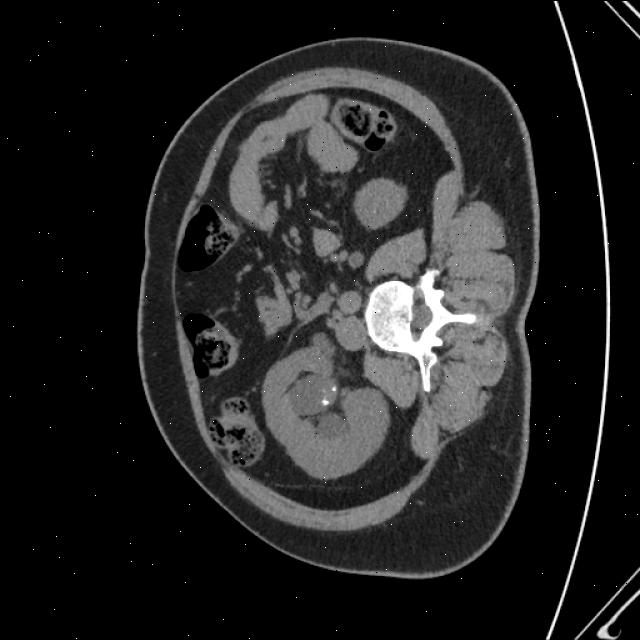kidneystone: (321, 396, 331, 408), (331, 386, 337, 390)
